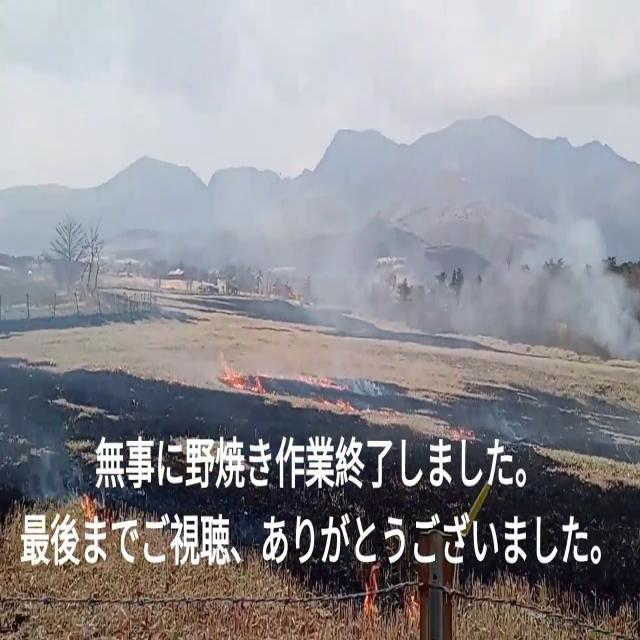Smoke: (117, 29, 640, 353)
